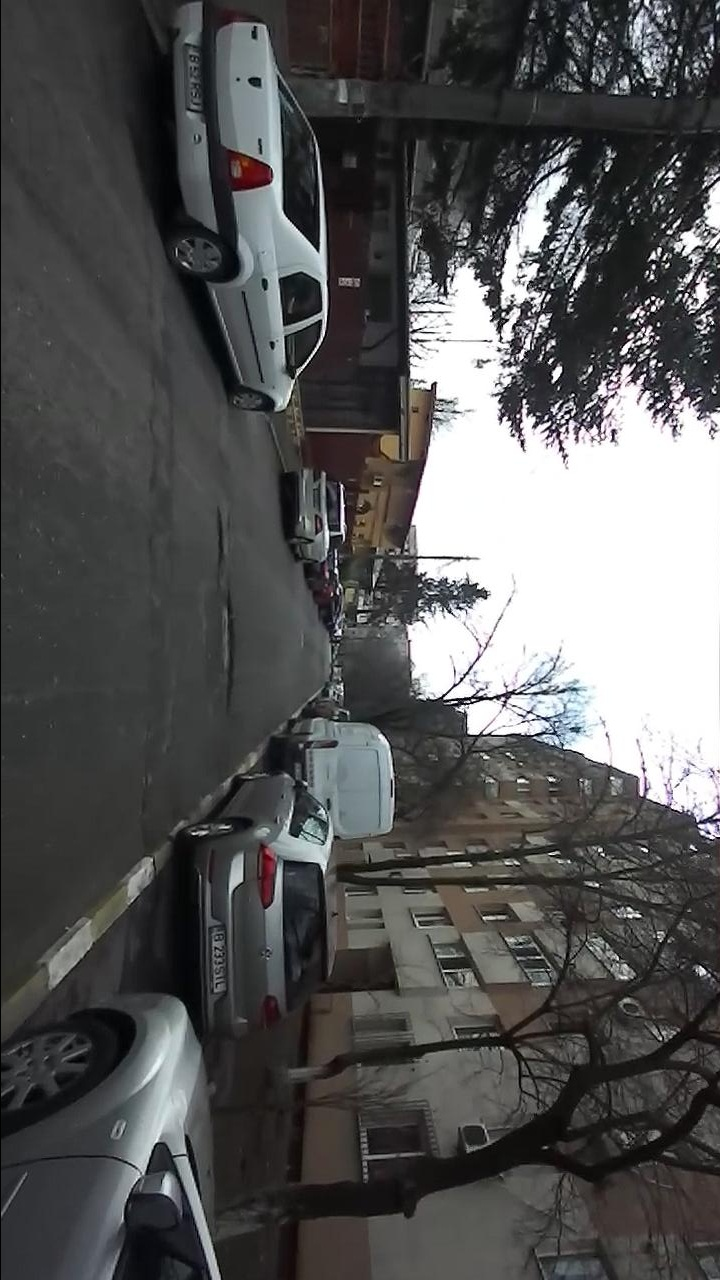pothole: (218, 590, 238, 715), (214, 505, 228, 587)
